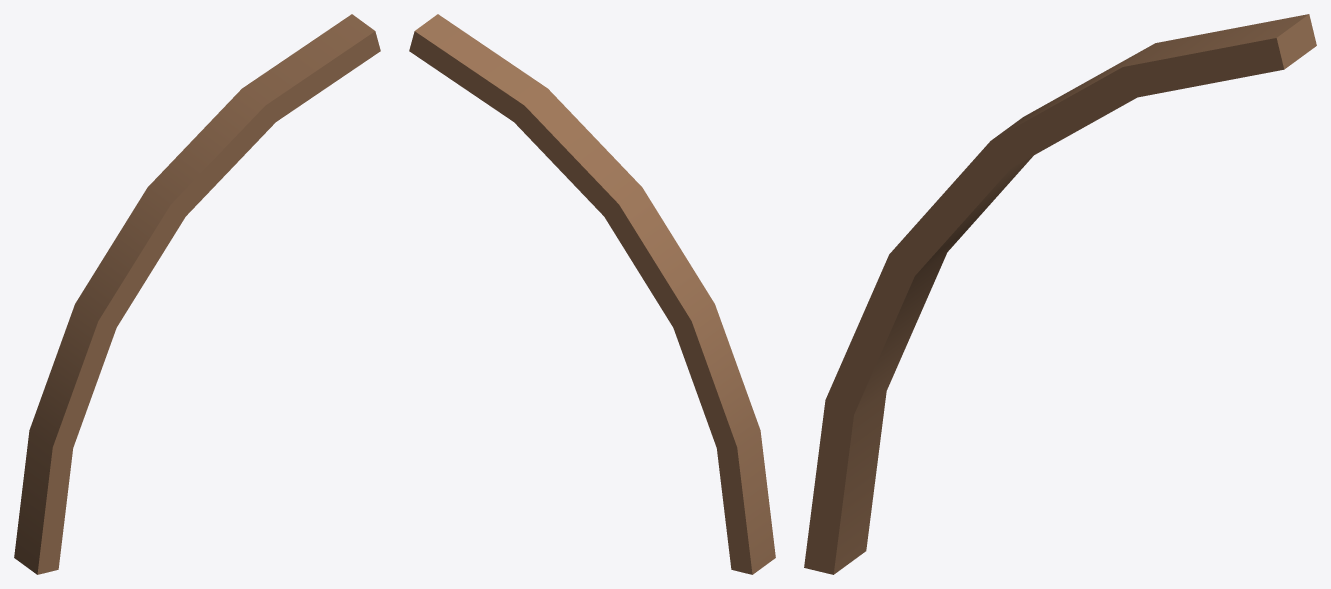
The model's file is Metal_Beam_01_Bend_03B.fbx.
3 renders of one model, left to right at view 1: azimuth 30°, elevation 25°; view 2: azimuth 150°, elevation 25°; view 3: azimuth 330°, elevation 25°, orthographic. The views are drawn at different scales.
Parts seen in each view (by area): view 1: Metal_Beam_01_Bend_03B; view 2: Metal_Beam_01_Bend_03B; view 3: Metal_Beam_01_Bend_03B.
Part boxes in pixels (x1,y1,x2,y2): Metal_Beam_01_Bend_03B: (14,14,380,574); Metal_Beam_01_Bend_03B: (409,14,775,574); Metal_Beam_01_Bend_03B: (804,14,1316,574).
Bounding box in the file's own units: 143 × 183 × 16.8.
